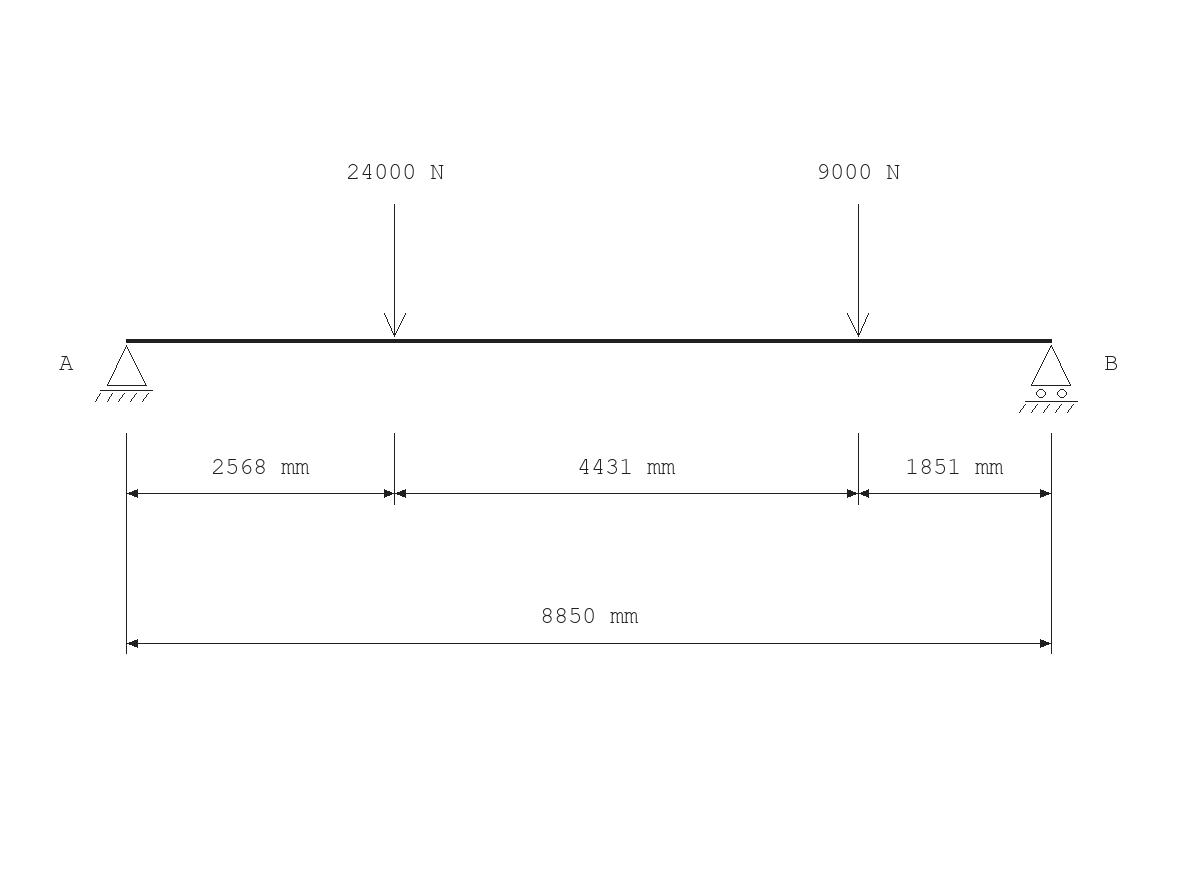pin_support: (95, 345, 153, 402)
point_load: (384, 204, 406, 337), (847, 204, 869, 337)
roller_support: (1019, 345, 1078, 413)
